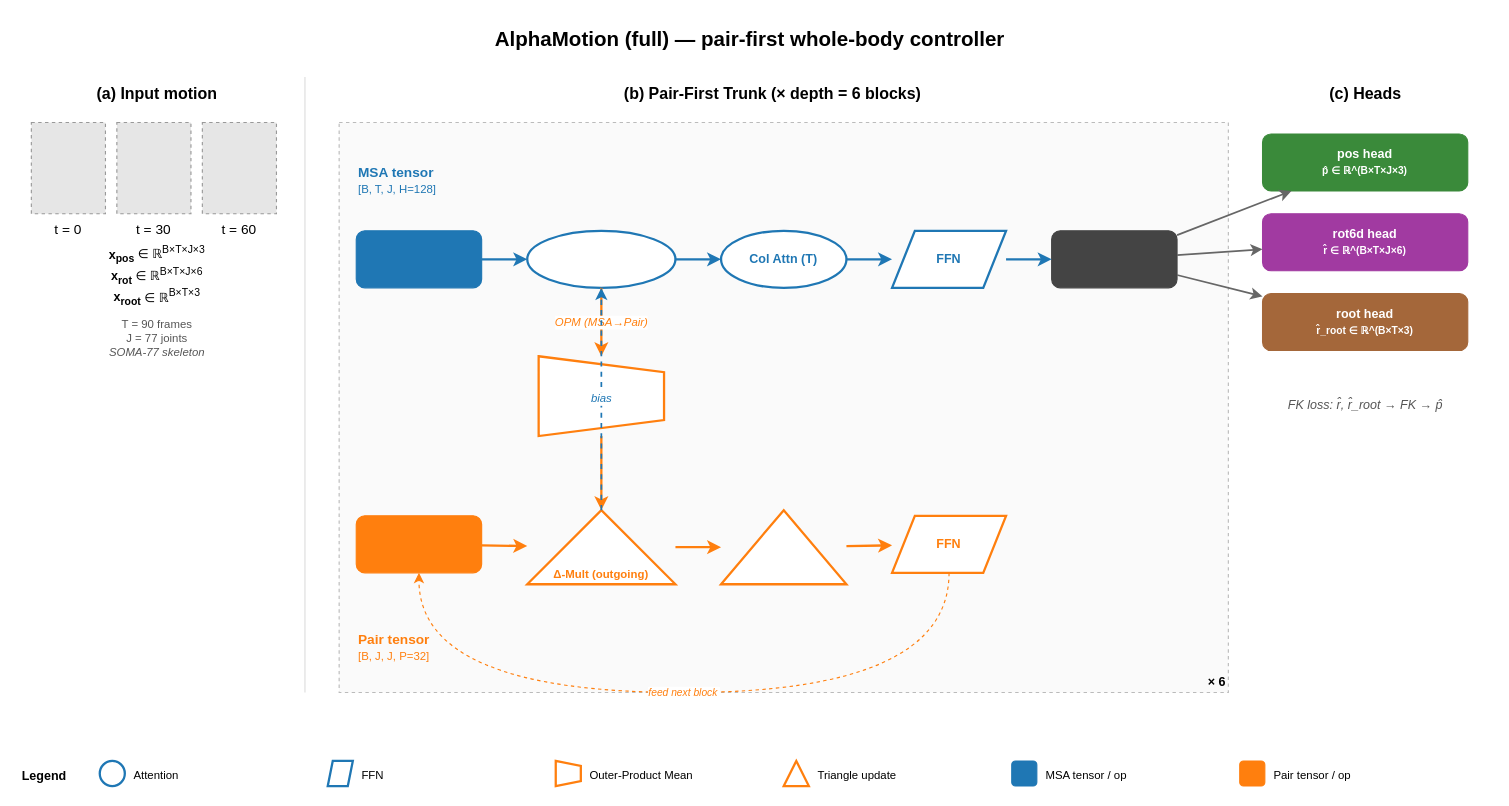
Image size: 1509x806. Some labels were removed from this diagram. Grey dashed boxes stand in for pictures. The box of each missing label's shape, as (x1, y1, x2, y2) in pixels:
Decoder: (1051, 230, 1177, 288)
Embed: (355, 230, 482, 288)
OPM: (537, 355, 665, 437)
Pair init: (355, 515, 482, 573)
Row Attn (J) + pair bias: (526, 229, 676, 288)
Δ-Attn (start): (719, 508, 847, 585)
